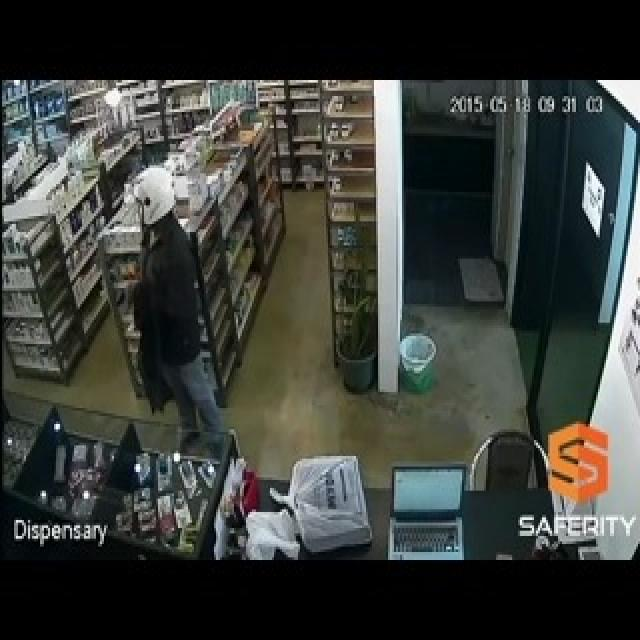thief: (109, 182, 220, 432)
